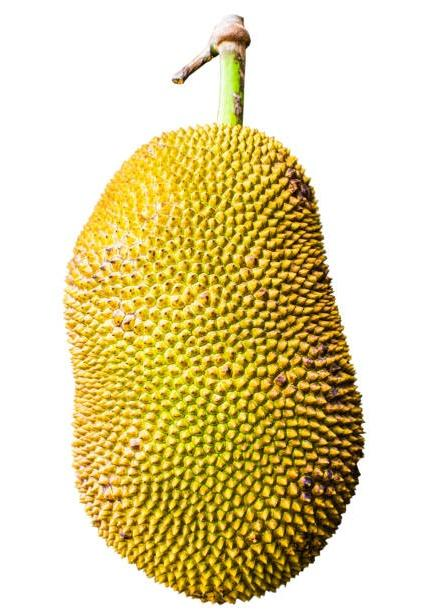spiny groud: (62, 121, 366, 605)
